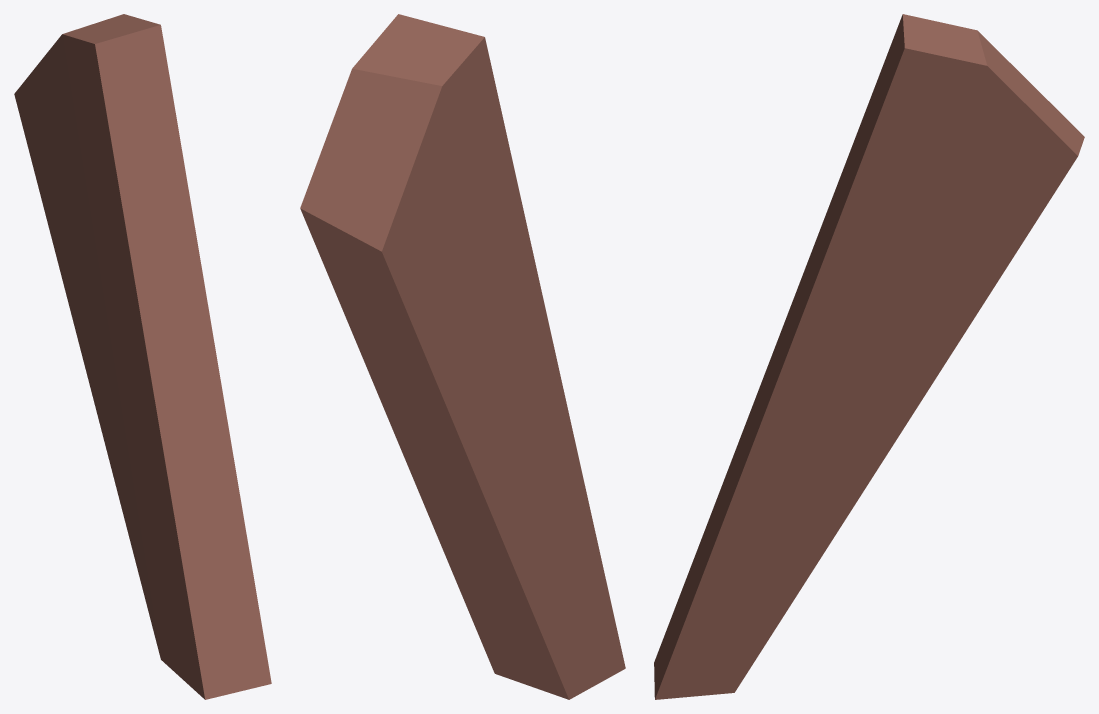
Rendered from T_MurDetruit_6.12.fbx.
3 renders of one model, left to right at view 1: azimuth 30°, elevation 25°; view 2: azimuth 150°, elevation 25°; view 3: azimuth 270°, elevation 25°, orthographic. The views are drawn at different scales.
Visible parts, largest first — view 1: T_MurDetruit_6.12; view 2: T_MurDetruit_6.12; view 3: T_MurDetruit_6.12.
Boxes of the visible parts, box(x1,y1,x2,y2) form: T_MurDetruit_6.12: box(14, 14, 271, 699); T_MurDetruit_6.12: box(300, 14, 625, 699); T_MurDetruit_6.12: box(654, 14, 1084, 699).
Size of the model in its own units: 13.48 by 111 by 66.65.
